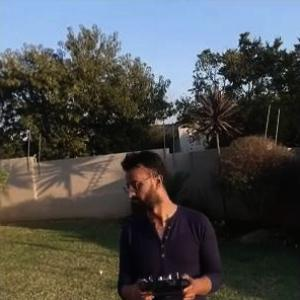follow: (115, 147, 231, 299)
